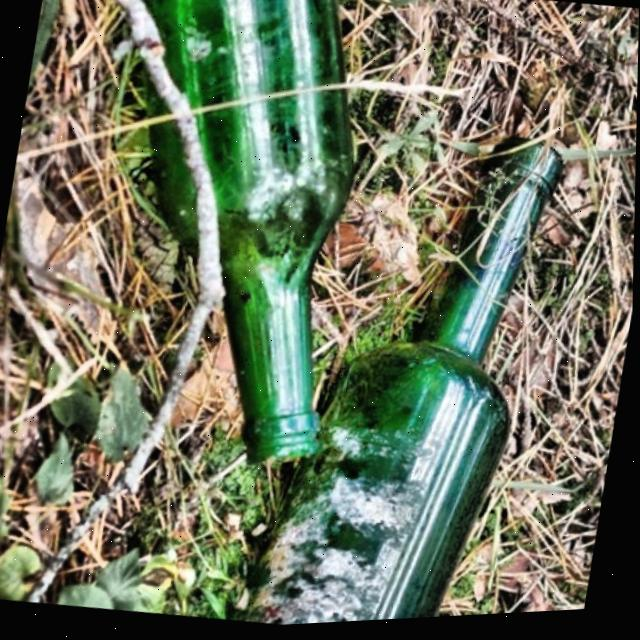glass: (234, 136, 564, 628), (133, 0, 351, 471)
